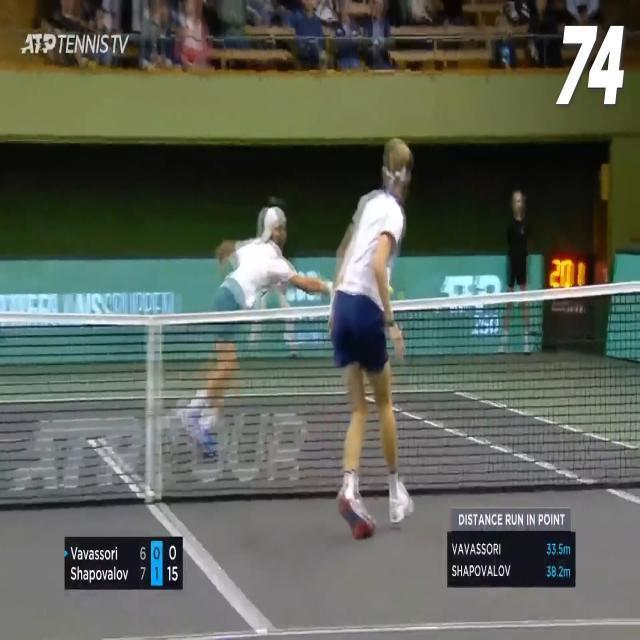player: (328, 138, 414, 542)
